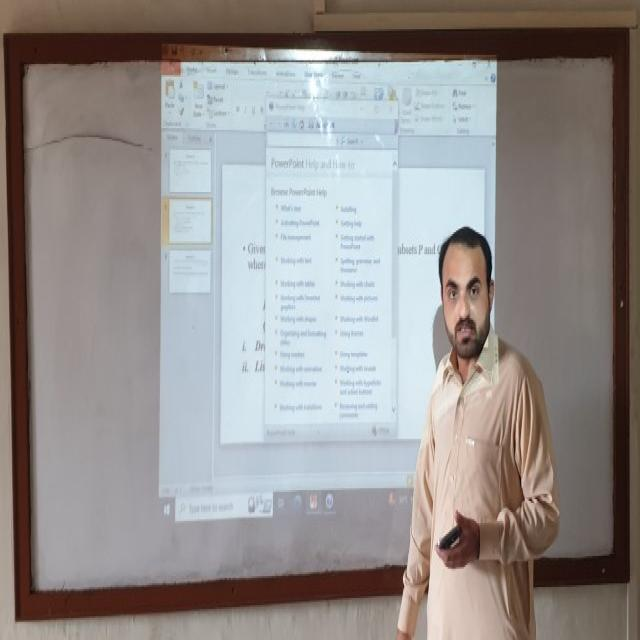Instructor: (419, 232, 538, 632)
Slide: (156, 46, 499, 541)
White-board: (14, 42, 623, 603)
